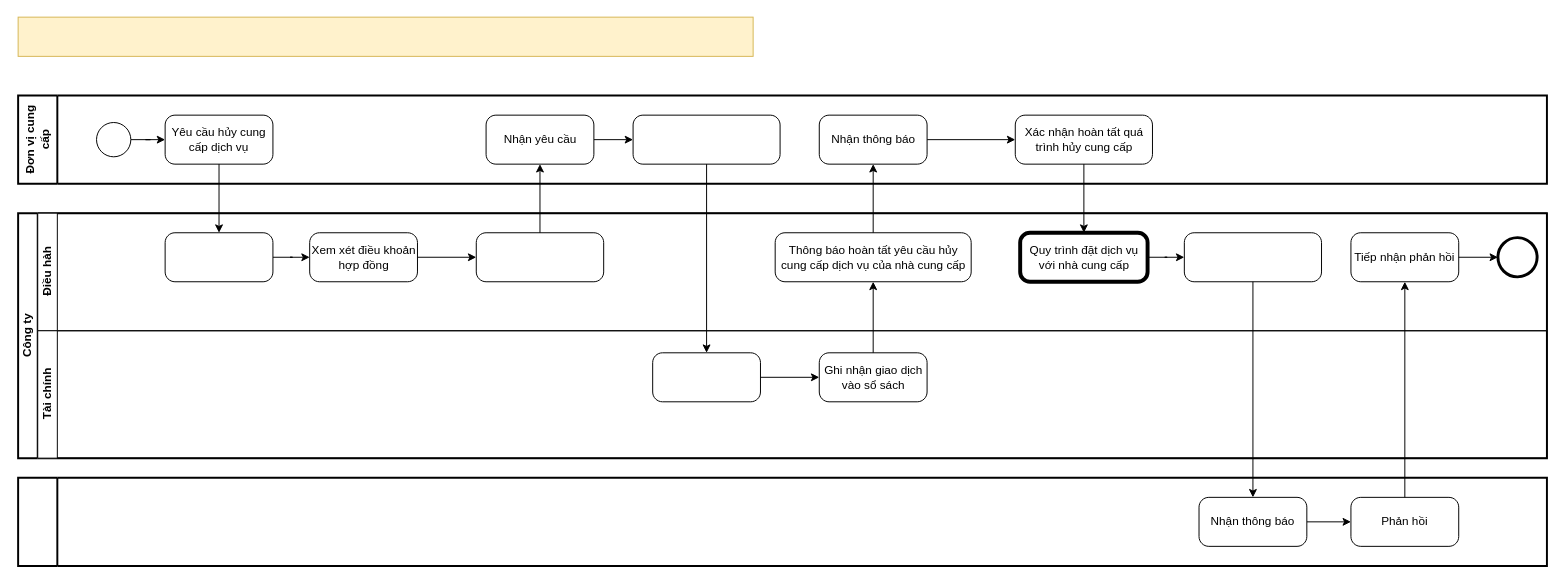
Image size: 1564x584. Some labels were removed from this diagram. Each missing label, with the box of its shape:
Khách hàng: (17, 476, 1547, 566)
Nhận tiền: (652, 352, 760, 402)
Quy trình thay đổi nhà cung cấp của tour: (17, 16, 753, 56)
Thông báo việc thay đổi nhà cung cấp: (1183, 232, 1322, 282)
Tiến hành thanh toán các khoản cọc và bồi thường: (632, 114, 780, 164)
TIếp nhận yêu cầu: (164, 232, 273, 282)
Yêu cầu trả tiền cọc và bồi thường hợp đồng: (475, 232, 604, 282)
